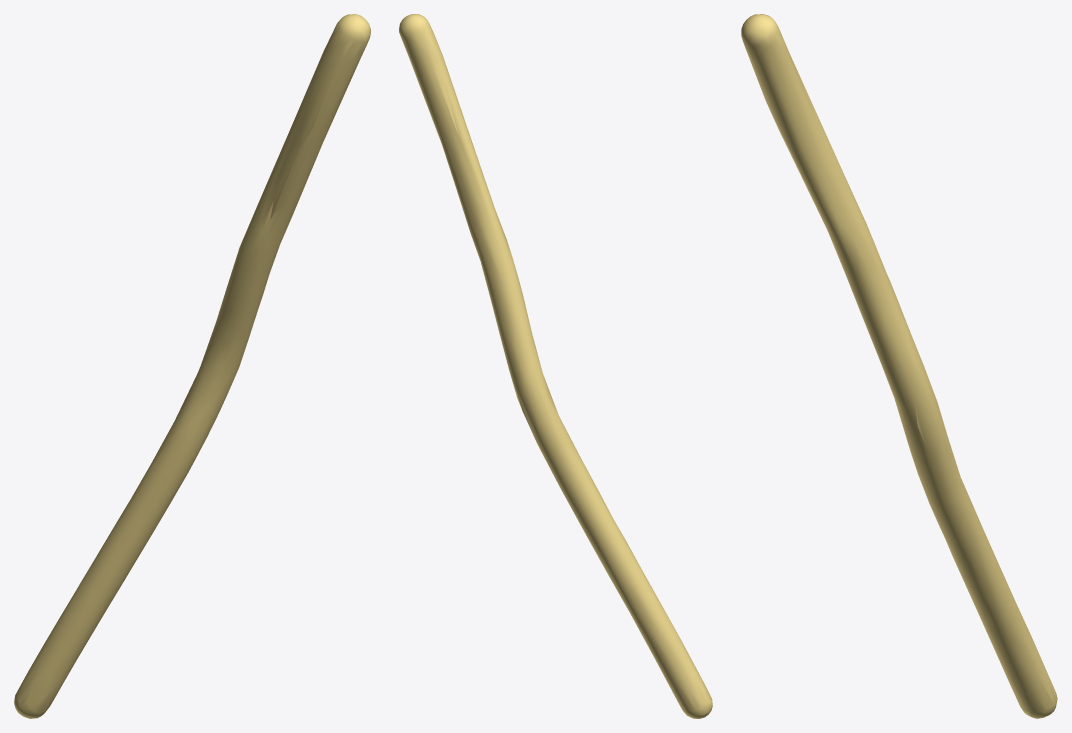
File: fma73840_mm3415.glb
3 renders of one model, left to right at view 1: azimuth 30°, elevation 25°; view 2: azimuth 210°, elevation 25°; view 3: azimuth 270°, elevation 25°, orthographic. The views are drawn at different scales.
Parts seen in each view (by area): view 1: FMA73840_MM3415; view 2: FMA73840_MM3415; view 3: FMA73840_MM3415.
Boxes of the visible parts, x1=… form: FMA73840_MM3415: x1=14, y1=14, x2=370, y2=718; FMA73840_MM3415: x1=399, y1=14, x2=712, y2=718; FMA73840_MM3415: x1=741, y1=14, x2=1057, y2=718.
Size of the model in its own units: 0.00514 by 0.0166 by 0.00594.
